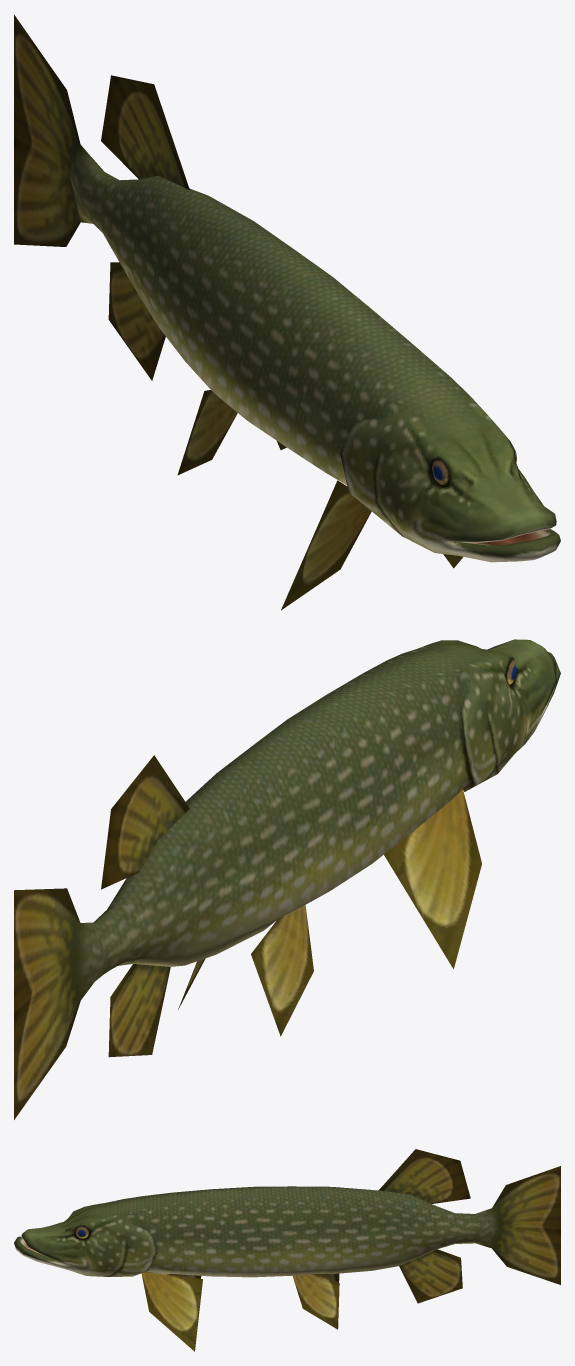
File: FishPaiku.glb
The picture shows the model from 3 angles, top to bottom: view 1: azimuth 30°, elevation 25°; view 2: azimuth 150°, elevation 25°; view 3: azimuth 270°, elevation 25°; orthographic projection. The views are drawn at different scales.
Parts seen in each view (by area): view 1: FishPaiku__mPaiku; view 2: FishPaiku__mPaiku; view 3: FishPaiku__mPaiku.
Boxes of the visible parts, x1,y1,x2,y2 form: FishPaiku__mPaiku: (14,14,560,610); FishPaiku__mPaiku: (14,639,560,1119); FishPaiku__mPaiku: (14,1149,560,1351).
Bounding box in the file's own units: 2.56 × 4.95 × 13.55.
Materials: 1 (1 with a texture image).
